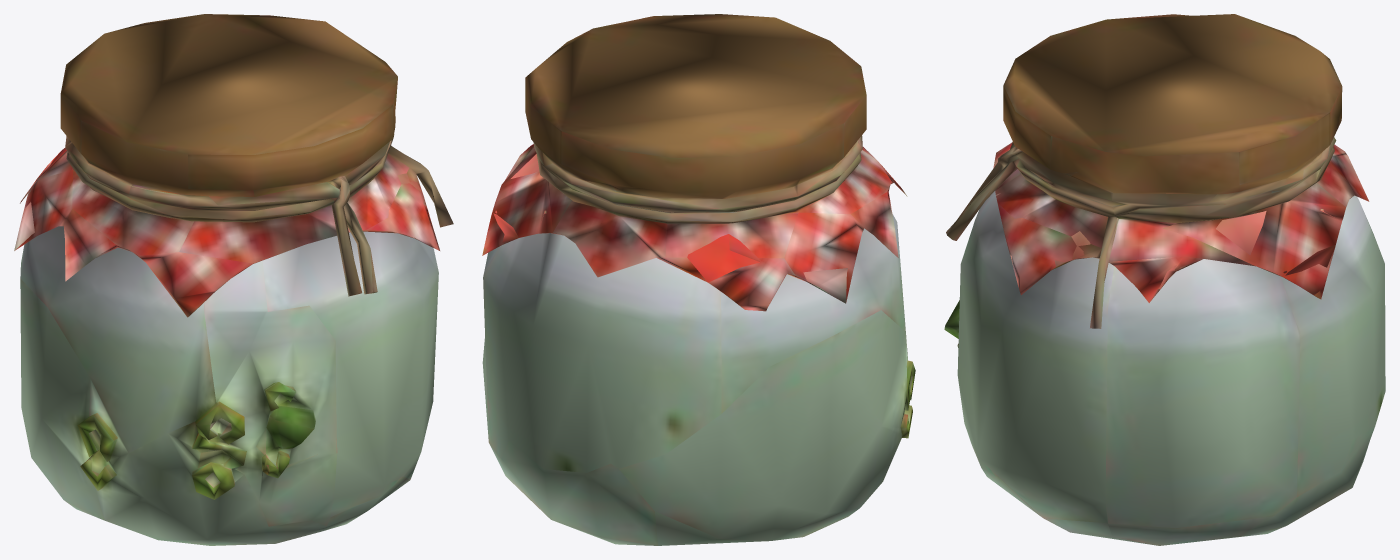
File: g_yancai.glb
3 views of the same model, side by side, from view 1: azimuth 30°, elevation 25°; view 2: azimuth 150°, elevation 25°; view 3: azimuth 270°, elevation 25° (orthographic).
Visible parts, largest first — view 1: node_0; view 2: node_0; view 3: node_0.
Boxes of the visible parts, x1=… form: node_0: x1=14, y1=14, x2=453, y2=545; node_0: x1=482, y1=14, x2=915, y2=545; node_0: x1=944, y1=14, x2=1385, y2=545.
Bounding box in the file's own units: 0.9085 × 0.9513 × 0.9377.
Materials: 1 (1 with a texture image).
